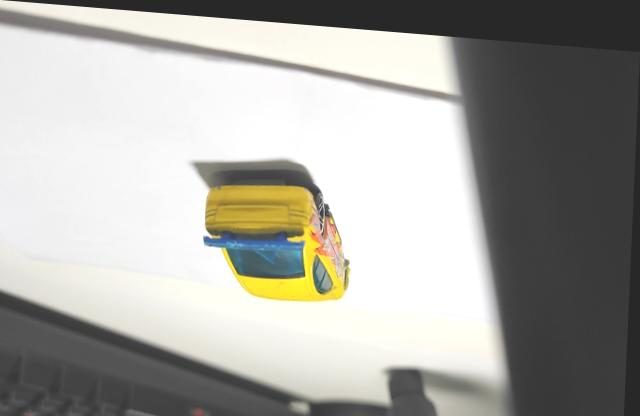02_OZSOME: (206, 178, 353, 296)
